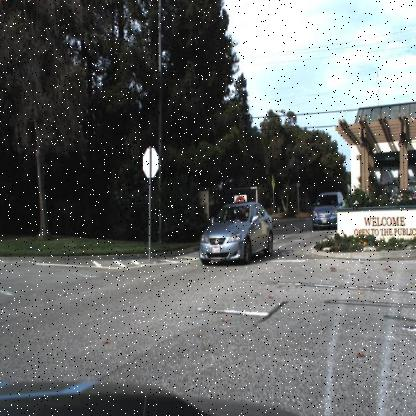car: (195, 197, 273, 270), (311, 187, 348, 232)
